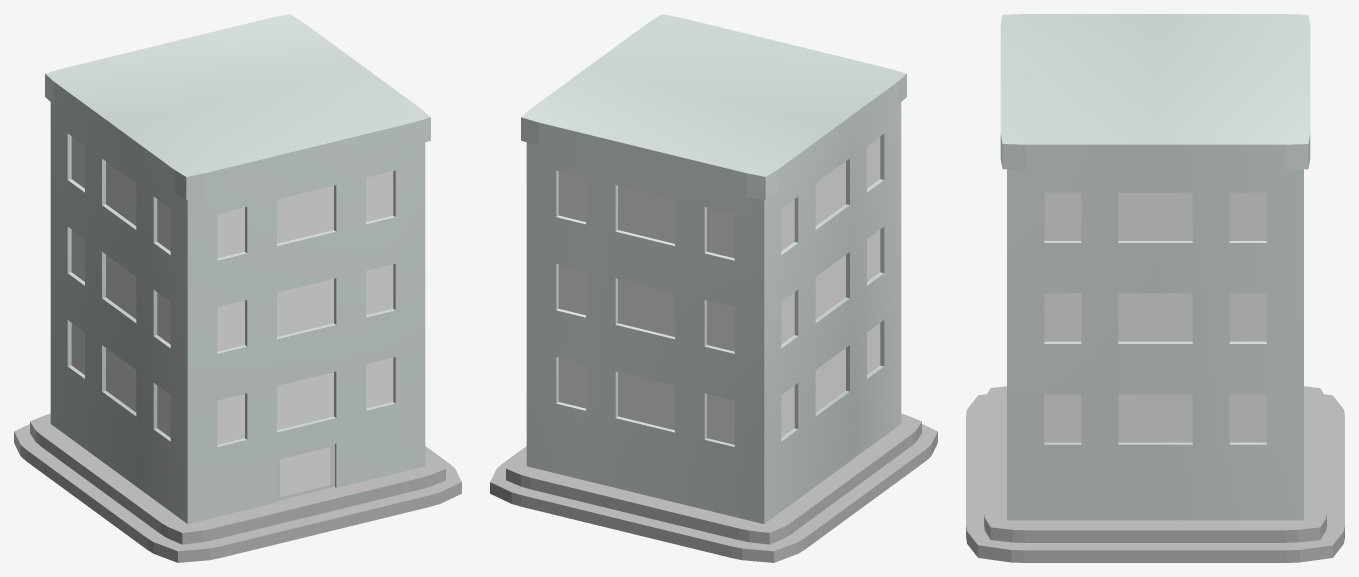
The model's file is building.fbx.
3 renders of one model, left to right at view 1: azimuth 30°, elevation 25°; view 2: azimuth 150°, elevation 25°; view 3: azimuth 270°, elevation 25°, orthographic. The views are drawn at different scales.
Parts seen in each view (by area): view 1: Cube.001; view 2: Cube.001; view 3: Cube.001.
Part boxes in pixels (box(x1,y1,x2,y2)): Cube.001: box(14, 14, 461, 562); Cube.001: box(490, 14, 937, 562); Cube.001: box(966, 14, 1344, 562).
Size of the model in its own units: 766 by 900 by 766.
